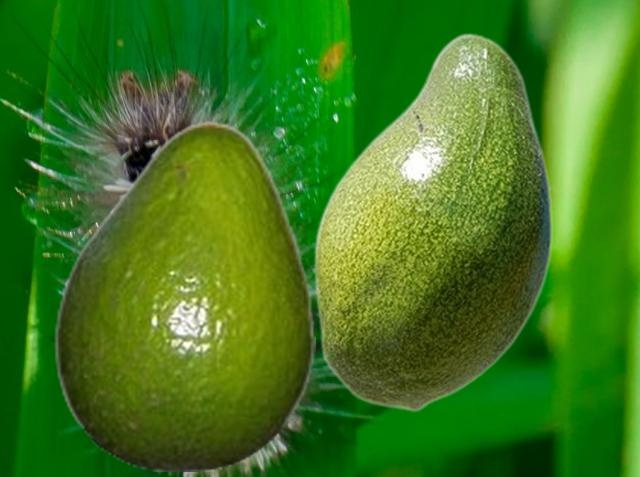avocado: (53, 120, 314, 470), (313, 32, 553, 411)
